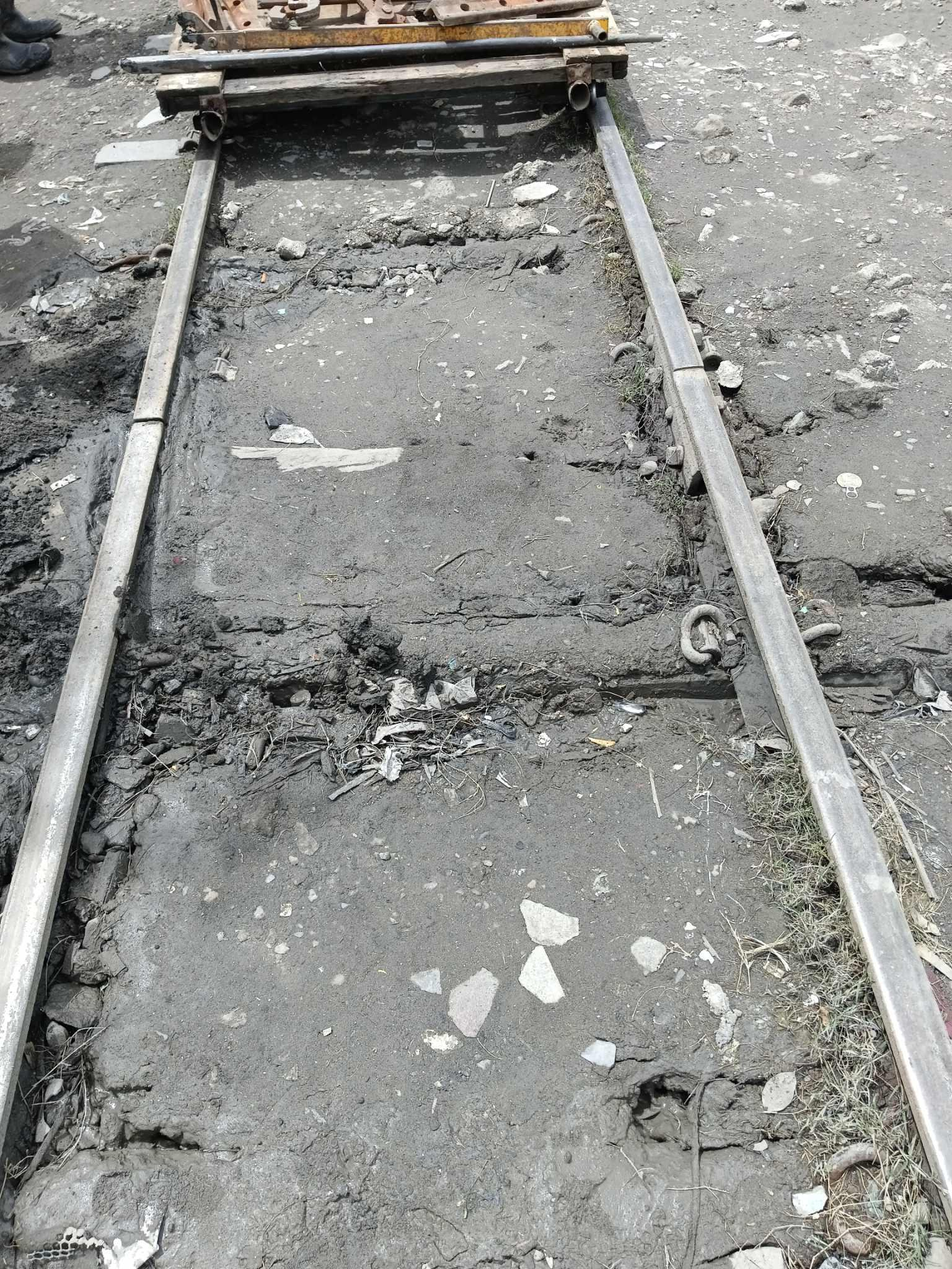railway-gap: (97, 361, 198, 469), (642, 330, 731, 410)
